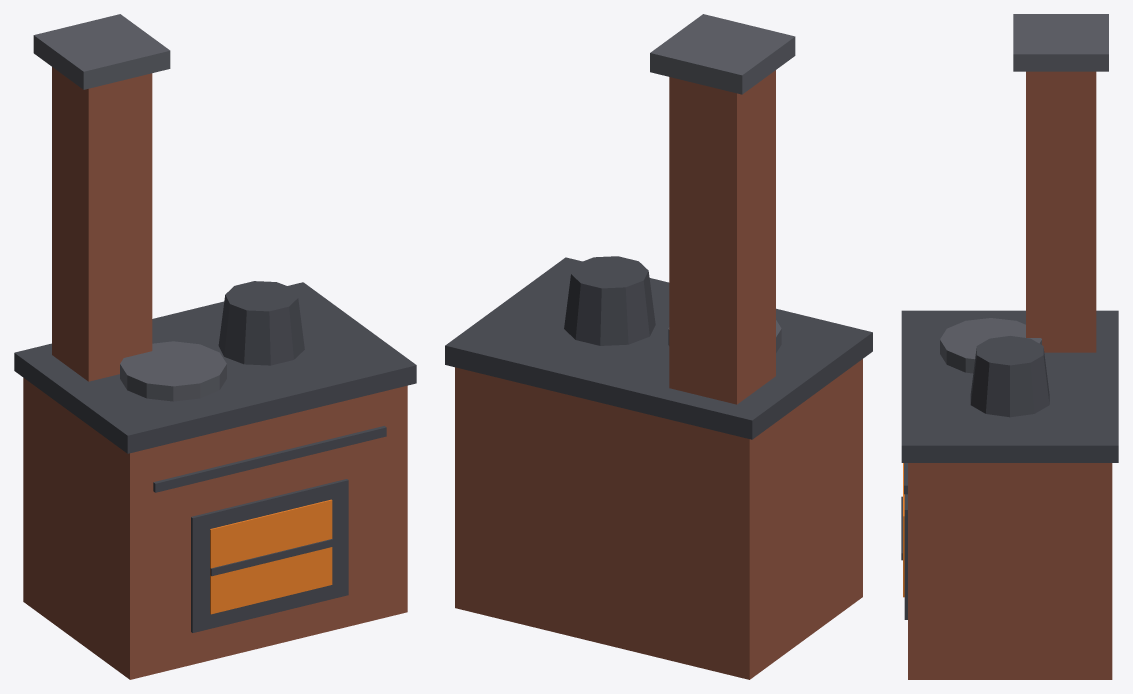
Rendered from range.glb.
3 renders of one model, left to right at view 1: azimuth 30°, elevation 25°; view 2: azimuth 150°, elevation 25°; view 3: azimuth 270°, elevation 25°, orthographic. The views are drawn at different scales.
Parts seen in each view (by area): view 1: range; view 2: range; view 3: range.
Part boxes in pixels (bbox=[...]): range: bbox=[14, 14, 416, 679]; range: bbox=[445, 14, 872, 679]; range: bbox=[901, 14, 1118, 679].
Bounding box in the file's own units: 1 × 1.87 × 0.681.
